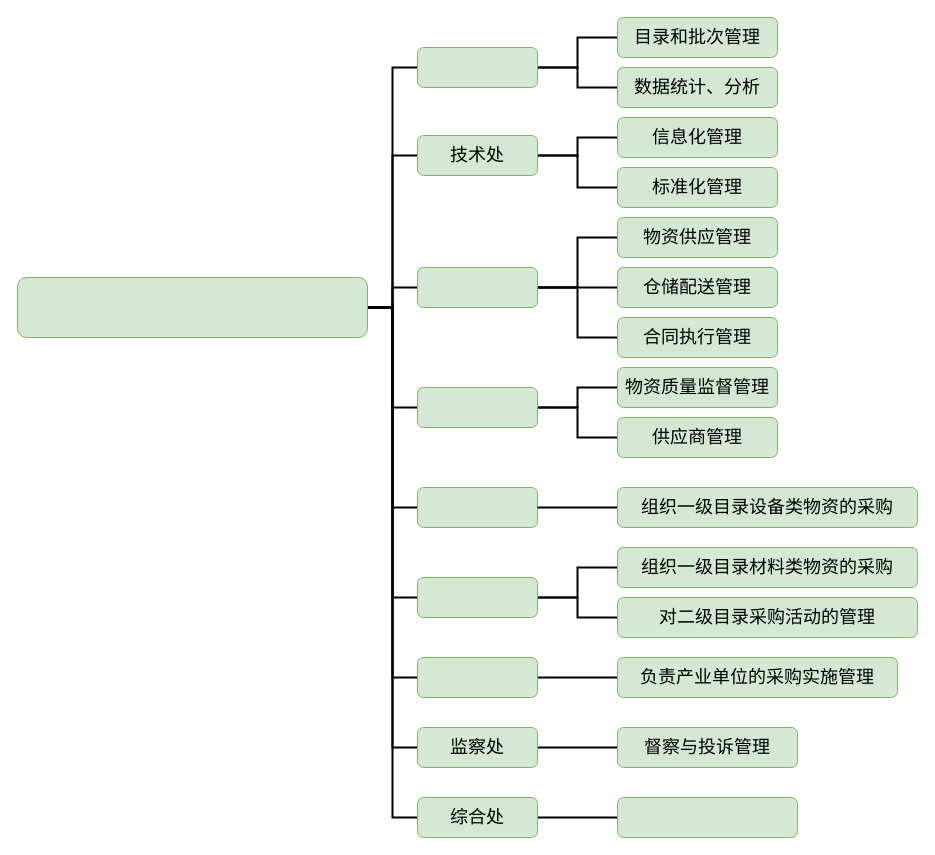
Some shapes in this 935 by 855 pixel diagram are drawn without their labels. The shapes that lost their labels are listed below. From the top down, each one's box as (x1, y1, x2, y2) in pixels, then its label:
(416, 46, 538, 88): 计划处
(16, 276, 368, 338): 国网物资管理部（招投标管理中心）
(416, 266, 538, 308): 物资供应处
(416, 386, 538, 428): 质量监督处
(416, 486, 538, 528): 招标一处
(416, 576, 538, 618): 招标二处
(416, 656, 538, 698): 招标三处
(616, 796, 798, 838): 综合事务管理
